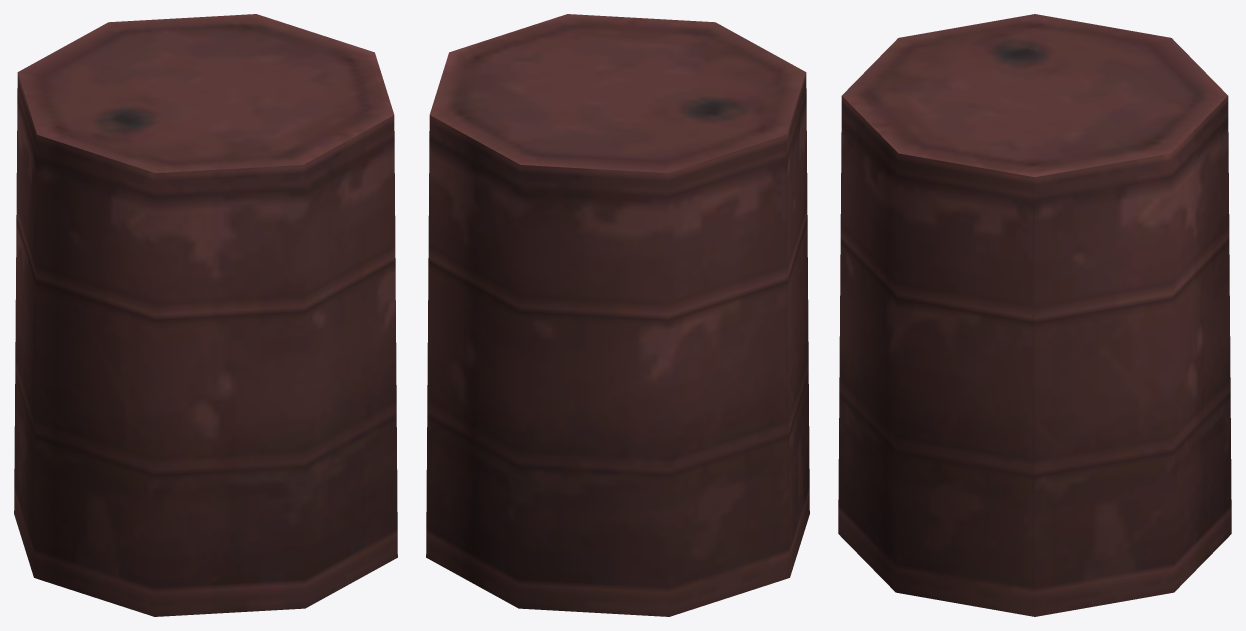
The model's file is ww2_drum.obj.
3 views of the same model, side by side, from view 1: azimuth 30°, elevation 25°; view 2: azimuth 150°, elevation 25°; view 3: azimuth 270°, elevation 25° (orthographic).
Visible parts, largest first — view 1: ww2_drum; view 2: ww2_drum; view 3: ww2_drum.
Boxes of the visible parts, box(x1,y1,x2,y2) form: ww2_drum: box(14, 14, 397, 616); ww2_drum: box(426, 14, 809, 616); ww2_drum: box(838, 14, 1231, 616).
Size of the model in its own units: 0.814 by 1 by 0.814.
1 material, 1 textured.
